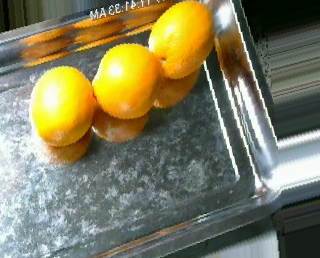Orange: (30, 65, 96, 147), (92, 42, 163, 118), (147, 1, 215, 80)
